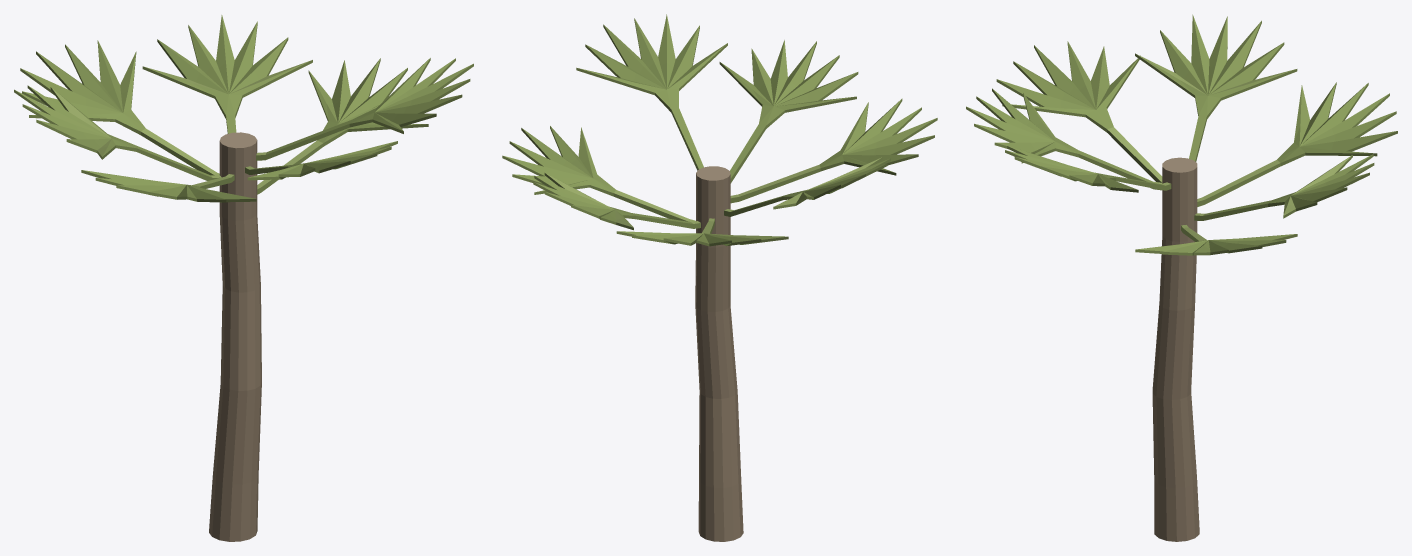
3 views of the same model, side by side, from view 1: azimuth 30°, elevation 25°; view 2: azimuth 150°, elevation 25°; view 3: azimuth 270°, elevation 25° (orthographic). The views are drawn at different scales.
Visible parts, largest first — view 1: Trunk_ContinuousUnbranched, FanLeaf_02, FanLeaf_03, FanLeaf_07, FanLeaf_01, FanLeaf_04, FanLeaf_05, FanLeaf_06; view 2: Trunk_ContinuousUnbranched, FanLeaf_07, FanLeaf_06, FanLeaf_05, FanLeaf_01, FanLeaf_02, FanLeaf_04, FanLeaf_03; view 3: Trunk_ContinuousUnbranched, FanLeaf_04, FanLeaf_05, FanLeaf_03, FanLeaf_06, FanLeaf_02, FanLeaf_01, FanLeaf_07.
Part boxes in pixels (x1,y1,x2,y2): Trunk_ContinuousUnbranched: (209, 132, 261, 541); FanLeaf_02: (142, 15, 312, 133); FanLeaf_03: (20, 40, 219, 175); FanLeaf_07: (256, 58, 473, 160); FanLeaf_01: (257, 58, 428, 194); FanLeaf_04: (14, 85, 221, 180); FanLeaf_05: (81, 170, 256, 202); FanLeaf_06: (245, 141, 397, 180); Trunk_ContinuousUnbranched: (695, 166, 743, 541); FanLeaf_07: (576, 14, 727, 170); FanLeaf_06: (719, 40, 858, 183); FanLeaf_05: (730, 98, 937, 203); FanLeaf_01: (502, 126, 695, 221); FanLeaf_02: (533, 173, 700, 230); FanLeaf_04: (724, 157, 890, 216); FanLeaf_03: (616, 218, 788, 246); Trunk_ContinuousUnbranched: (1152, 157, 1199, 541); FanLeaf_04: (1135, 14, 1297, 161); FanLeaf_05: (996, 41, 1162, 182); FanLeaf_03: (1197, 82, 1397, 206); FanLeaf_06: (966, 88, 1162, 190); FanLeaf_02: (1194, 154, 1374, 220); FanLeaf_01: (1135, 225, 1297, 255); FanLeaf_07: (1005, 146, 1171, 192).
Bounding box in the file's own units: 2.62 × 2.94 × 2.6.
